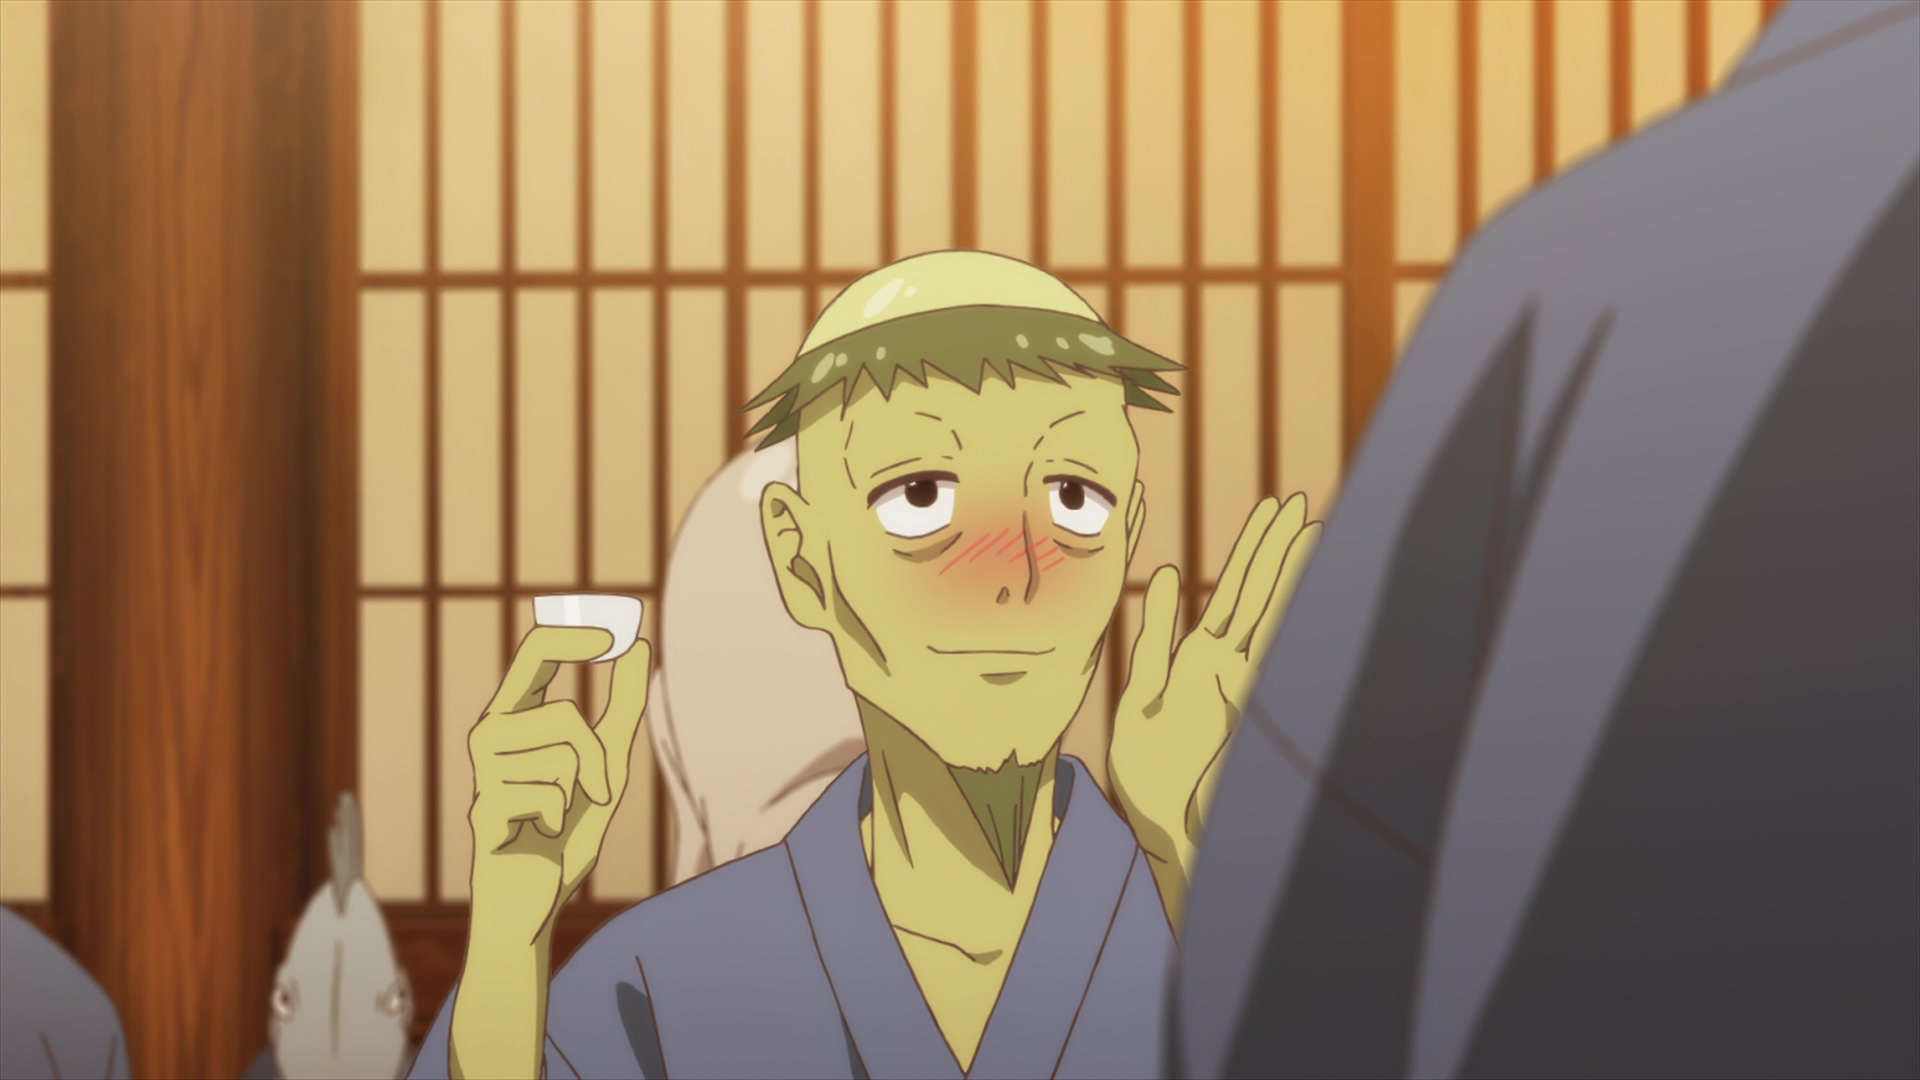其他: (1168, 1, 1920, 1080), (415, 252, 1325, 1080), (252, 795, 413, 1080)
